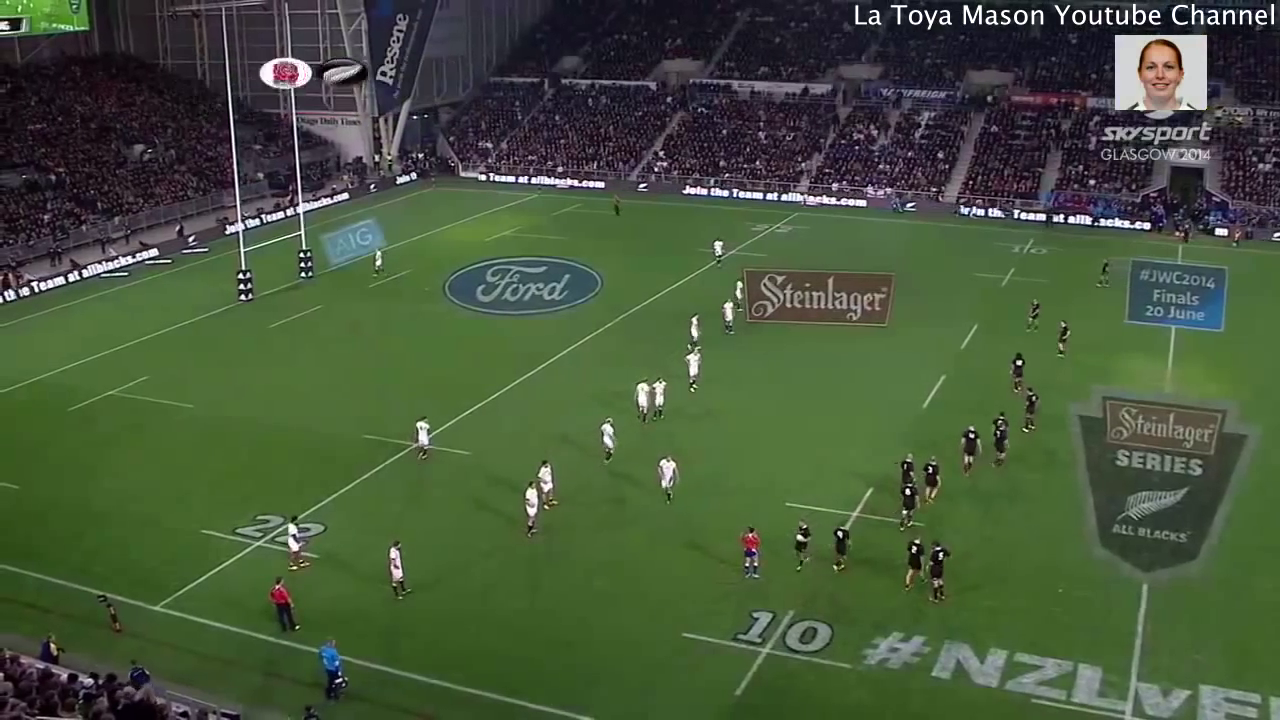10_metre: (672, 603, 862, 703), (776, 479, 928, 551), (972, 264, 1053, 291), (992, 234, 1066, 258)
ball: (791, 527, 806, 544)
player: (384, 537, 418, 606), (277, 506, 311, 574), (265, 572, 301, 636), (924, 532, 952, 611), (405, 408, 435, 476), (732, 518, 762, 586), (515, 479, 546, 543), (917, 447, 949, 509), (898, 530, 930, 592), (987, 404, 1017, 469), (653, 448, 684, 510), (889, 475, 920, 536), (533, 455, 562, 516), (826, 516, 853, 578), (953, 424, 985, 476), (596, 411, 620, 476), (626, 372, 653, 426), (1017, 379, 1041, 439), (791, 515, 815, 575), (681, 346, 708, 399), (1002, 349, 1031, 397), (648, 368, 671, 424), (731, 271, 755, 317), (717, 293, 740, 340), (890, 448, 917, 488), (684, 308, 706, 356), (1021, 291, 1044, 336), (1094, 253, 1116, 296), (1052, 314, 1073, 356), (368, 241, 389, 280), (705, 236, 730, 268), (605, 188, 625, 221)
post: (219, 1, 323, 313)
